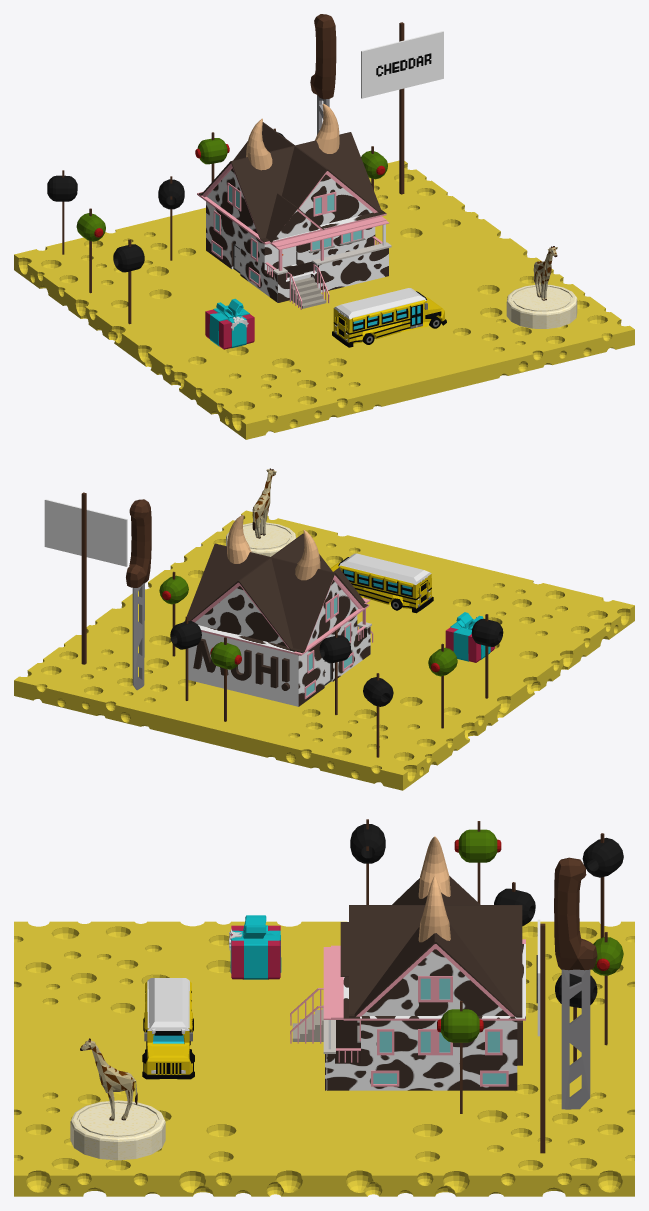
3 renders of one model, top to bottom at view 1: azimuth 30°, elevation 25°; view 2: azimuth 150°, elevation 25°; view 3: azimuth 270°, elevation 25°, orthographic. The views are drawn at different scales.
Parts seen in each view (by area): view 1: Cube.022, Cube.1242, Cube.023, VEHICLES_SCHOOL_BUS, Cylinder.016, Cube.024, OBJRANDOM_GIANT_PRESENT, Sphere.017, Sphere.016, Sphere.020, Sphere.018, Sphere.022 (+2 smaller); view 2: Cube.022, Cube.1242, Cube.023, VEHICLES_SCHOOL_BUS, Cube.024, OBJRANDOM_GIANT_PRESENT, Cylinder.016, Sphere.017, Sphere.021, Sphere.016, Sphere.020, Sphere.022 (+3 smaller); view 3: Cube.022, Cube.1242, Cube.024, VEHICLES_SCHOOL_BUS, Cylinder.016, OBJRANDOM_GIANT_PRESENT, Cube.023, Sphere.016, Sphere.019, ANIMAL_JIRAFA, Sphere.018, Sphere.017 (+3 smaller).
Part boxes in pixels (x1,y1,x2,y2): Cube.022: [14, 160, 634, 439]; Cube.1242: [197, 103, 391, 309]; Cube.023: [361, 22, 443, 194]; VEHICLES_SCHOOL_BUS: [332, 288, 446, 347]; Cylinder.016: [506, 284, 577, 328]; Cube.024: [310, 14, 336, 134]; OBJRANDOM_GIANT_PRESENT: [205, 298, 254, 349]; Sphere.017: [113, 239, 144, 324]; Sphere.016: [47, 170, 77, 254]; Sphere.020: [158, 176, 184, 260]; Sphere.018: [76, 208, 105, 293]; Sphere.022: [195, 132, 229, 181]; Cube.022: [14, 510, 634, 790]; Cube.1242: [183, 514, 373, 706]; Cube.023: [44, 492, 127, 664]; VEHICLES_SCHOOL_BUS: [330, 553, 433, 613]; Cube.024: [126, 499, 151, 690]; OBJRANDOM_GIANT_PRESENT: [445, 612, 494, 662]; Cylinder.016: [226, 522, 295, 556]; Sphere.017: [471, 614, 503, 698]; Sphere.021: [170, 616, 201, 700]; Sphere.016: [363, 673, 393, 757]; Sphere.020: [319, 630, 350, 714]; Sphere.022: [210, 637, 241, 721]; Cube.022: [14, 921, 634, 1196]; Cube.1242: [290, 836, 525, 1090]; Cube.024: [554, 857, 597, 1109]; VEHICLES_SCHOOL_BUS: [142, 978, 194, 1079]; Cylinder.016: [70, 1100, 165, 1160]; OBJRANDOM_GIANT_PRESENT: [229, 915, 281, 979]; Cube.023: [536, 919, 545, 1153]; Sphere.016: [582, 833, 623, 937]; Sphere.019: [437, 1001, 483, 1113]; ANIMAL_JIRAFA: [80, 1038, 137, 1120]; Sphere.018: [454, 821, 501, 903]; Sphere.017: [350, 819, 385, 904].
Size of the model in its own units: 3917 by 2007 by 4000.
Materials: 48 (3 with a texture image).
